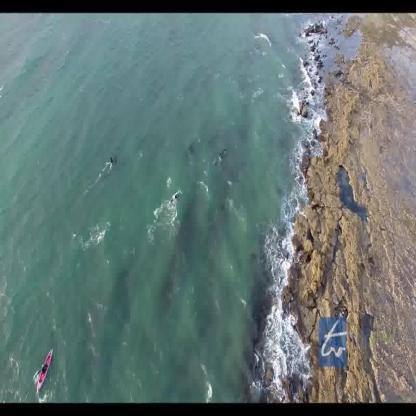Boat: (32, 344, 58, 389)
